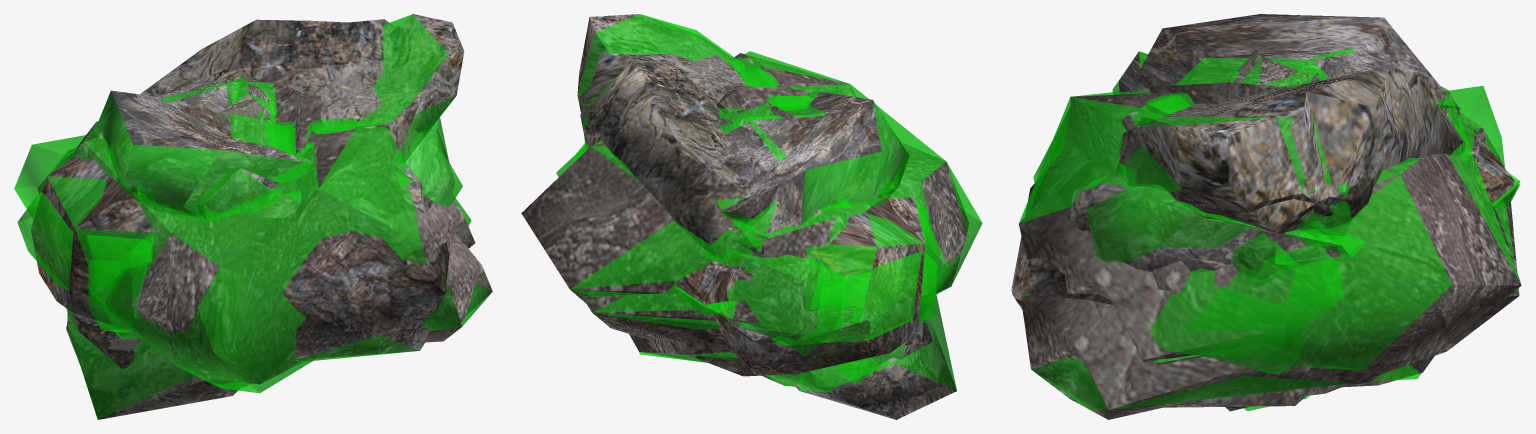
File: GroupStones.fbx
3 views of the same model, side by side, from view 1: azimuth 30°, elevation 25°; view 2: azimuth 150°, elevation 25°; view 3: azimuth 270°, elevation 25° (orthographic). The views are drawn at different scales.
Visible parts, largest first — view 1: Rock_06 (×2), Rock_02 (×2), Rock_03 (×2), Rock_16 (×2), Rock_12, Rock_05 (×2), Rock_07 (×2), Rock_04 (×2), Rock_15, Rock_17 (×2), Rock_18 (×2), Rock_10 (×2); view 2: Rock_06 (×2), Rock_02 (×2), Rock_12 (×2), Rock_05 (×2), Rock_03 (×2), Rock_16 (×2), Rock_15, Rock_04 (×2), Rock_07 (×2), Rock_13 (×2), Rock_14 (×2), Rock_10 (×2); view 3: Rock_06 (×2), Rock_05 (×2), Rock_12 (×2), Rock_17 (×2), Rock_03 (×2), Rock_07 (×2), Rock_16, Rock_02 (×2), Rock_04 (×2), Rock_13 (×2), Rock_10 (×2), Rock_18.
Boxes of the visible parts, left/top/right/bottom form: Rock_06 (×2): left=72, top=121, right=475, bottom=393; Rock_02 (×2): left=31, top=147, right=449, bottom=361; Rock_03 (×2): left=66, top=14, right=464, bottom=419; Rock_16 (×2): left=94, top=90, right=311, bottom=217; Rock_12: left=68, top=19, right=418, bottom=386; Rock_05 (×2): left=14, top=95, right=492, bottom=342; Rock_07 (×2): left=98, top=82, right=358, bottom=347; Rock_04 (×2): left=136, top=79, right=280, bottom=202; Rock_15: left=17, top=191, right=153, bottom=306; Rock_17 (×2): left=405, top=117, right=462, bottom=206; Rock_18 (×2): left=196, top=167, right=287, bottom=222; Rock_10 (×2): left=211, top=77, right=275, bottom=125; Rock_06 (×2): left=521, top=51, right=982, bottom=311; Rock_02 (×2): left=629, top=176, right=925, bottom=376; Rock_12 (×2): left=580, top=52, right=932, bottom=386; Rock_05 (×2): left=581, top=110, right=936, bottom=356; Rock_03 (×2): left=577, top=14, right=956, bottom=419; Rock_16 (×2): left=720, top=90, right=909, bottom=227; Rock_15: left=678, top=206, right=928, bottom=345; Rock_04 (×2): left=718, top=105, right=894, bottom=194; Rock_07 (×2): left=556, top=66, right=949, bottom=320; Rock_13 (×2): left=715, top=196, right=849, bottom=255; Rock_14 (×2): left=675, top=287, right=855, bottom=342; Rock_10 (×2): left=725, top=102, right=806, bottom=376; Rock_06 (×2): left=1018, top=86, right=1521, bottom=370; Rock_05 (×2): left=1021, top=85, right=1519, bottom=419; Rock_12 (×2): left=1135, top=66, right=1466, bottom=411; Rock_17 (×2): left=1087, top=184, right=1365, bottom=272; Rock_03 (×2): left=1114, top=103, right=1337, bottom=217; Rock_07 (×2): left=1145, top=82, right=1343, bottom=373; Rock_16: left=1127, top=14, right=1446, bottom=407; Rock_02 (×2): left=1011, top=119, right=1515, bottom=387; Rock_04 (×2): left=1175, top=48, right=1381, bottom=395; Rock_13 (×2): left=1232, top=96, right=1460, bottom=287; Rock_10 (×2): left=1224, top=50, right=1325, bottom=86; Rock_18: left=1119, top=51, right=1147, bottom=94.
Bounding box in the file's own units: 1.88 × 1.53 × 1.81.
